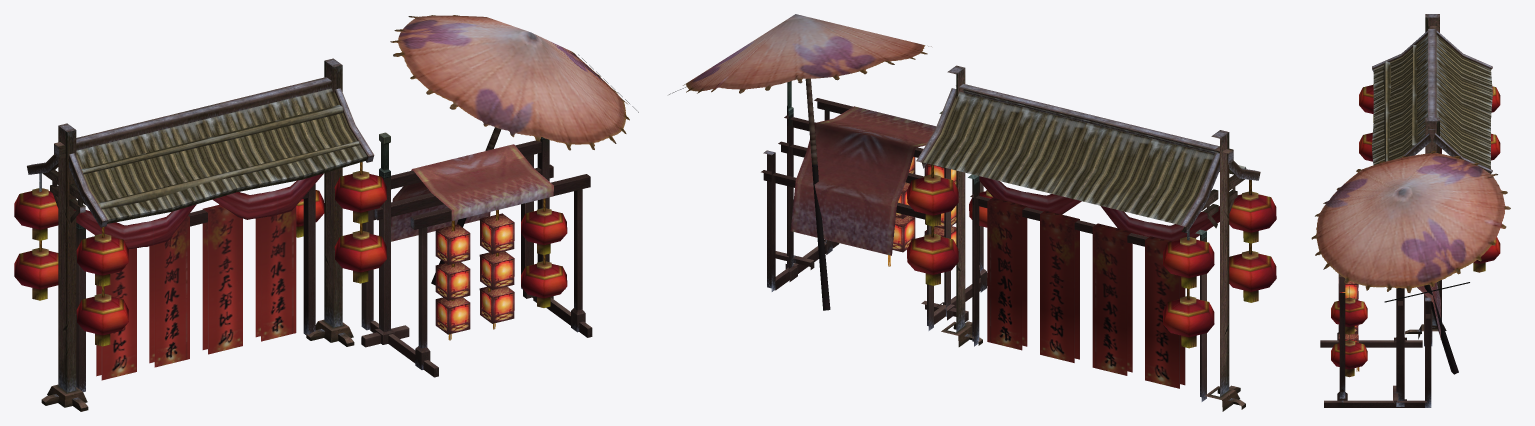
Rendered from zc_suzhou_tanwei06.FBX.
3 renders of one model, left to right at view 1: azimuth 30°, elevation 25°; view 2: azimuth 150°, elevation 25°; view 3: azimuth 270°, elevation 25°, orthographic. The views are drawn at different scales.
Visible parts, largest first — view 1: zc_suzhou_tanwei06; view 2: zc_suzhou_tanwei06; view 3: zc_suzhou_tanwei06.
Part boxes in pixels (x1,y1,x2,y2): zc_suzhou_tanwei06: (14, 15, 638, 411); zc_suzhou_tanwei06: (669, 14, 1276, 411); zc_suzhou_tanwei06: (1311, 14, 1510, 407).
Bounding box in the file's own units: 503 × 230 × 208.
